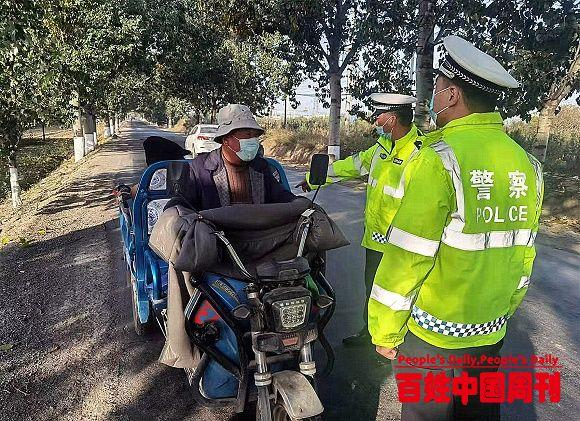driver: (156, 95, 335, 335)
only_driver: (59, 82, 361, 418)
